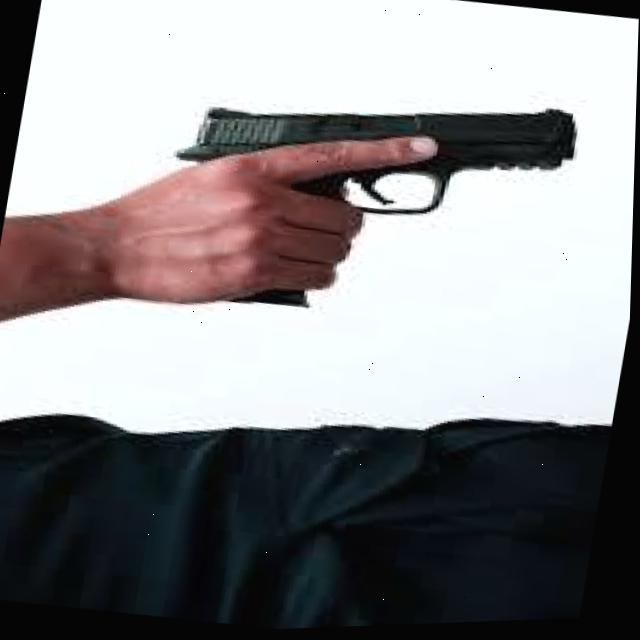gun: (170, 107, 579, 217)
